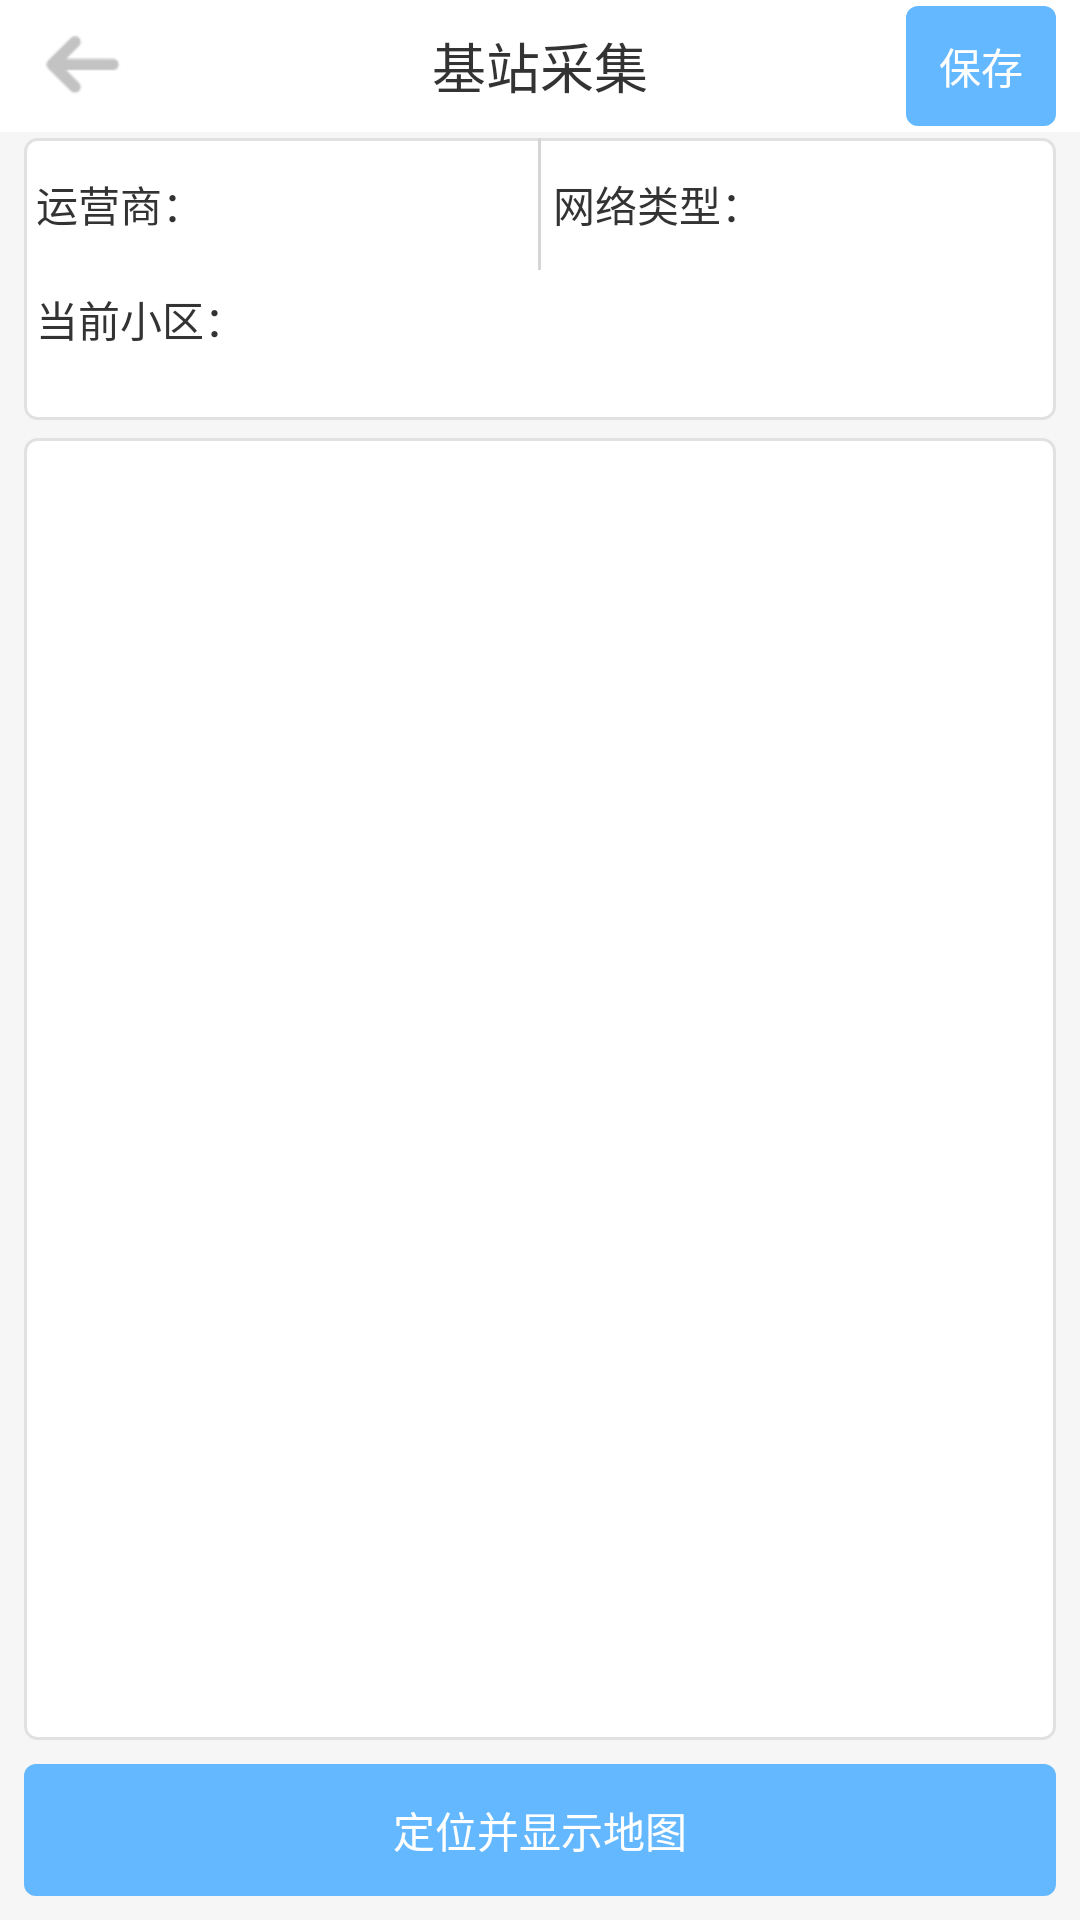

Where icons sit on this 1080w x 1920h app screen, as box(x1, y1, x2, y2):
back: box(46, 36, 119, 93)
